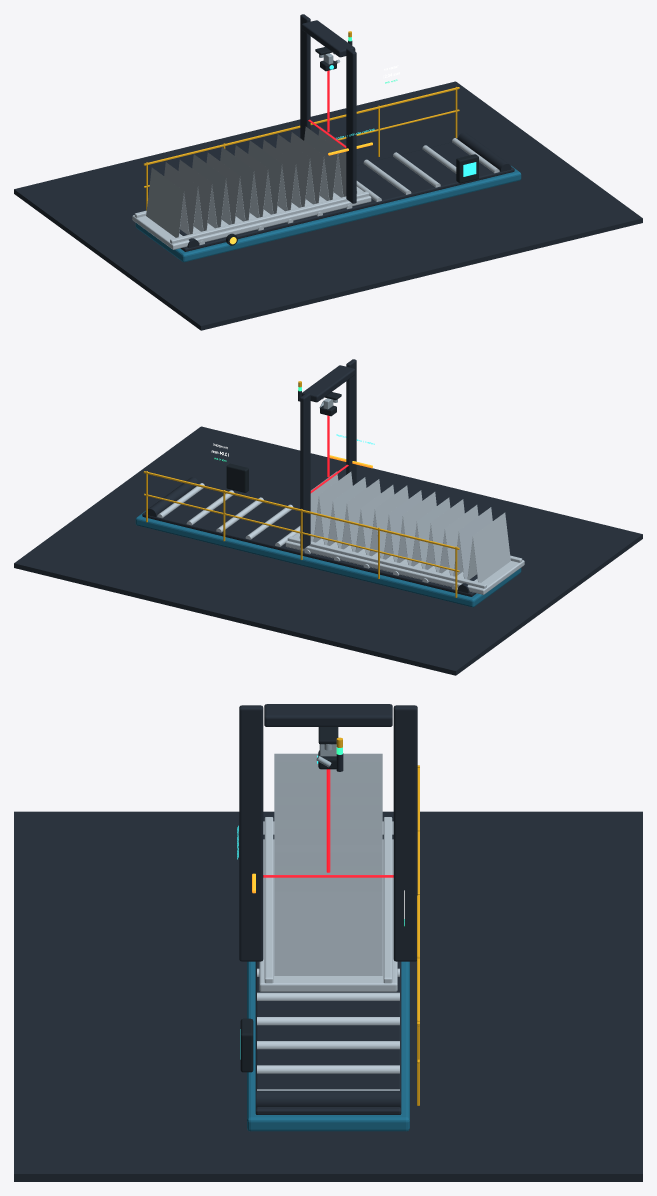
File: inline_laser_encoder.glb
3 views of the same model, one above another, from view 1: azimuth 30°, elevation 25°; view 2: azimuth 150°, elevation 25°; view 3: azimuth 270°, elevation 25° (orthographic). The views are drawn at different scales.
Parts seen in each view (by area): view 1: Factory floor, Moving belt, Conveyor chassis, Radiator pallet, Open folded fin 01, Fixed C-frame post, Fixed C-frame post.001, Open folded fin 06, Open folded fin 04, Open folded fin 10, Front header, Open folded fin 08 (+12 smaller); view 2: Factory floor, Moving belt, Conveyor chassis, Radiator pallet, Open folded fin 01, Fixed C-frame post.001, Fixed C-frame post, Rear header, Open folded fin 06, Open folded fin 12, Open folded fin 04, Open folded fin 10 (+13 smaller); view 3: Factory floor, Moving belt, Open folded fin 13, Fixed C-frame post.001, Fixed C-frame post, Conveyor chassis, Radiator pallet, Fixed measurement crossbeam, End roller.001, Open folded fin 08, Open folded fin 12, Front header (+17 smaller).
Part boxes in pixels (left/top/right/bottom): Factory floor: left=14, top=81, right=642, bottom=330; Moving belt: left=180, top=142, right=514, bottom=251; Conveyor chassis: left=135, top=166, right=521, bottom=262; Radiator pallet: left=132, top=186, right=371, bottom=249; Open folded fin 01: left=146, top=167, right=189, bottom=237; Fixed C-frame post: left=346, top=47, right=356, bottom=203; Fixed C-frame post.001: left=300, top=14, right=310, bottom=140; Open folded fin 06: left=220, top=147, right=259, bottom=220; Open folded fin 04: left=192, top=154, right=231, bottom=227; Open folded fin 10: left=276, top=134, right=315, bottom=206; Front header: left=170, top=191, right=369, bottom=243; Open folded fin 08: left=248, top=140, right=287, bottom=213; Factory floor: left=14, top=426, right=642, bottom=675; Moving belt: left=142, top=488, right=476, bottom=596; Conveyor chassis: left=135, top=511, right=521, bottom=607; Radiator pallet: left=285, top=533, right=524, bottom=594; Open folded fin 01: left=467, top=512, right=510, bottom=582; Fixed C-frame post.001: left=300, top=392, right=310, bottom=548; Fixed C-frame post: left=346, top=359, right=356, bottom=485; Rear header: left=287, top=536, right=486, bottom=588; Open folded fin 06: left=397, top=492, right=436, bottom=565; Open folded fin 12: left=313, top=471, right=352, bottom=545; Open folded fin 04: left=425, top=499, right=464, bottom=572; Open folded fin 10: left=341, top=479, right=380, bottom=551; Factory floor: left=14, top=811, right=642, bottom=1181; Moving belt: left=255, top=961, right=401, bottom=1114; Open folded fin 13: left=274, top=891, right=382, bottom=975; Fixed C-frame post.001: left=393, top=705, right=417, bottom=961; Fixed C-frame post: left=239, top=705, right=263, bottom=961; Conveyor chassis: left=247, top=961, right=409, bottom=1131; Radiator pallet: left=259, top=821, right=397, bottom=991; Fixed measurement crossbeam: left=264, top=704, right=392, bottom=726; End roller.001: left=256, top=1090, right=400, bottom=1107; Open folded fin 08: left=274, top=828, right=382, bottom=844; Open folded fin 12: left=274, top=874, right=382, bottom=891; Front header: left=264, top=817, right=273, bottom=983.
Bounding box in the file's own units: 30 × 11.35 × 22.
